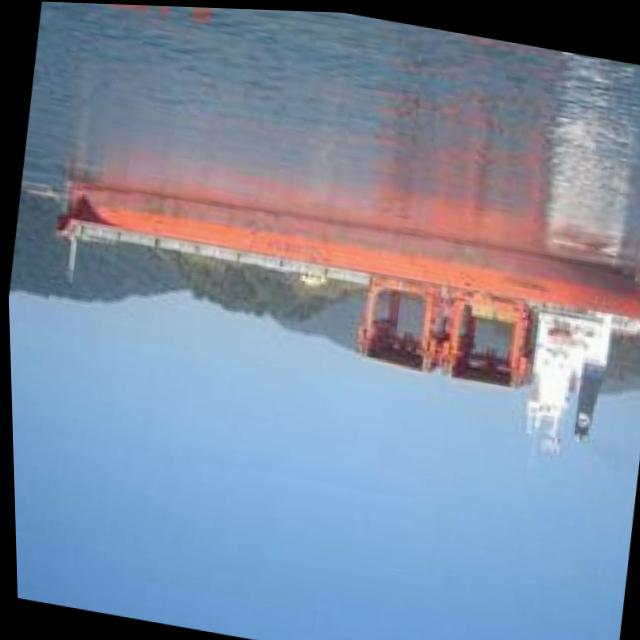ship2: (53, 181, 640, 453)
